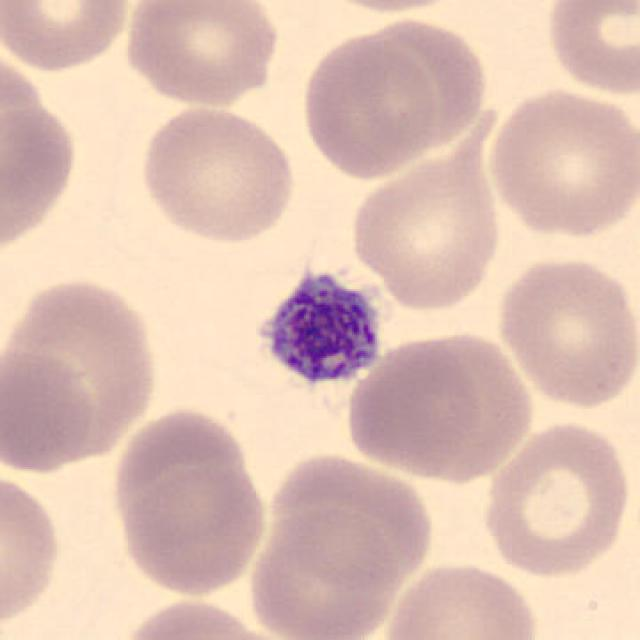Platelets: (243, 259, 389, 404)
RBC: (107, 402, 272, 601), (2, 272, 164, 470), (345, 144, 507, 314), (476, 416, 634, 580), (482, 83, 638, 241), (262, 449, 438, 589), (135, 100, 299, 247), (492, 250, 638, 412), (393, 326, 537, 487), (342, 14, 494, 162), (297, 30, 441, 182), (244, 504, 404, 640), (343, 332, 485, 482), (121, 0, 283, 109), (0, 73, 82, 264), (379, 557, 544, 640), (2, 344, 101, 478), (0, 464, 66, 636), (0, 0, 135, 74), (540, 0, 639, 100), (116, 594, 295, 640), (304, 0, 478, 16)
